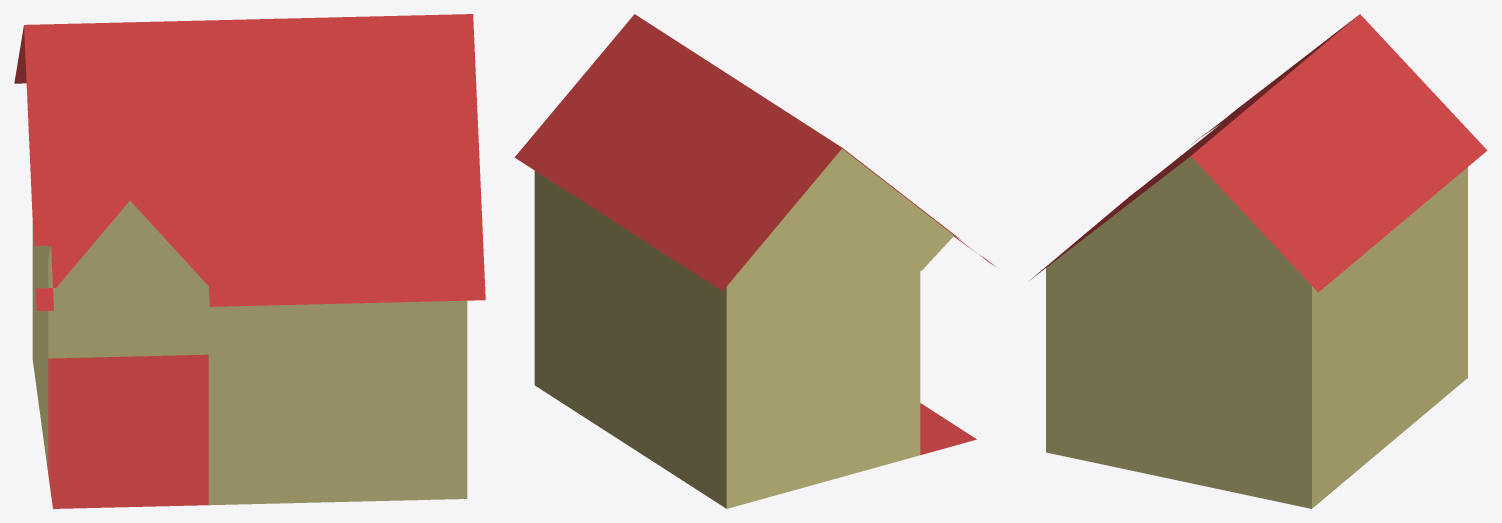
3 views of the same model, side by side, from view 1: azimuth 30°, elevation 25°; view 2: azimuth 150°, elevation 25°; view 3: azimuth 270°, elevation 25° (orthographic). The views are drawn at different scales.
Size of the model in its own units: 16.61 by 15.85 by 12.67.
